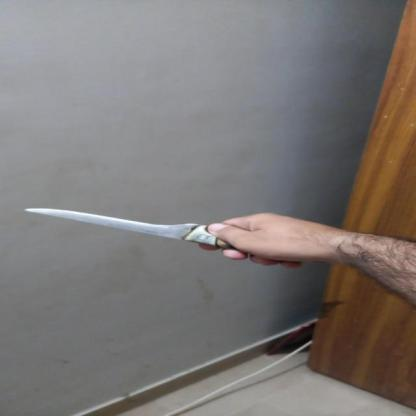Knife: (21, 206, 317, 266)
